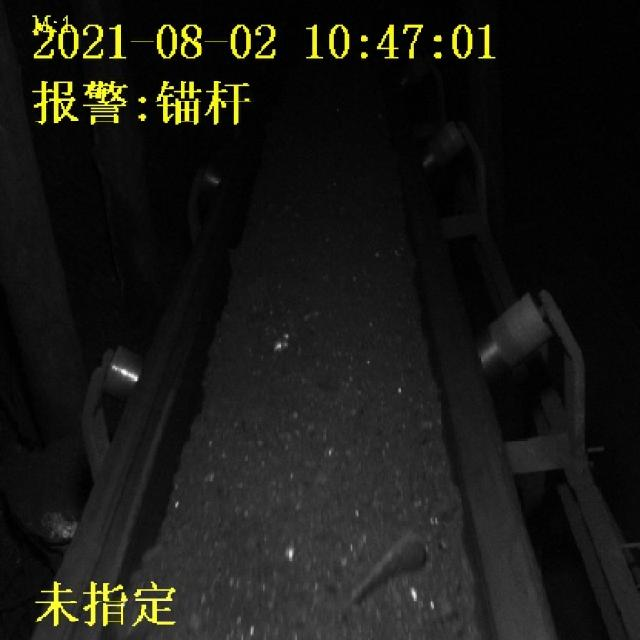large_sized_coal: (350, 529, 424, 603)
